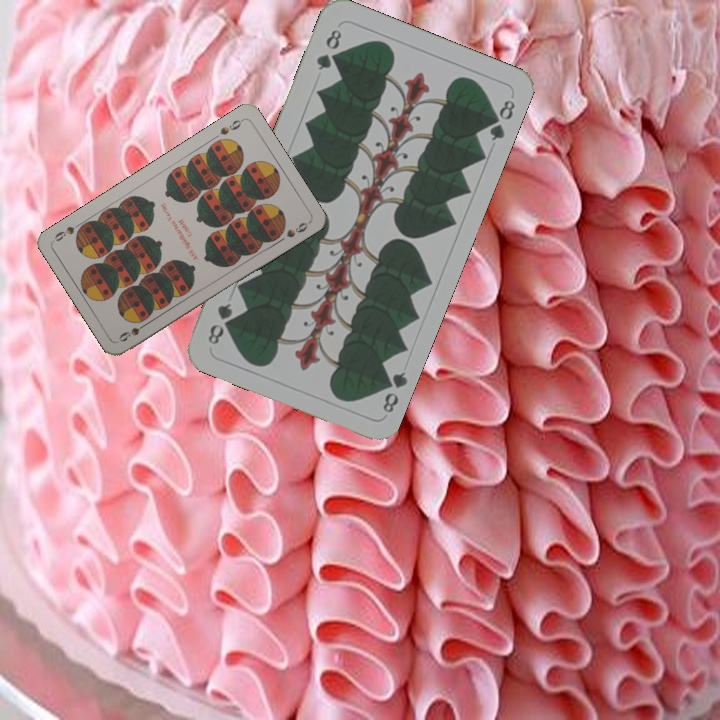G8: (376, 367, 410, 416), (312, 25, 344, 73)
S9: (114, 318, 152, 344), (216, 115, 246, 138)
